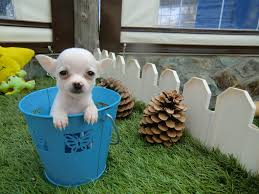chihuahua: (27, 37, 119, 146)
